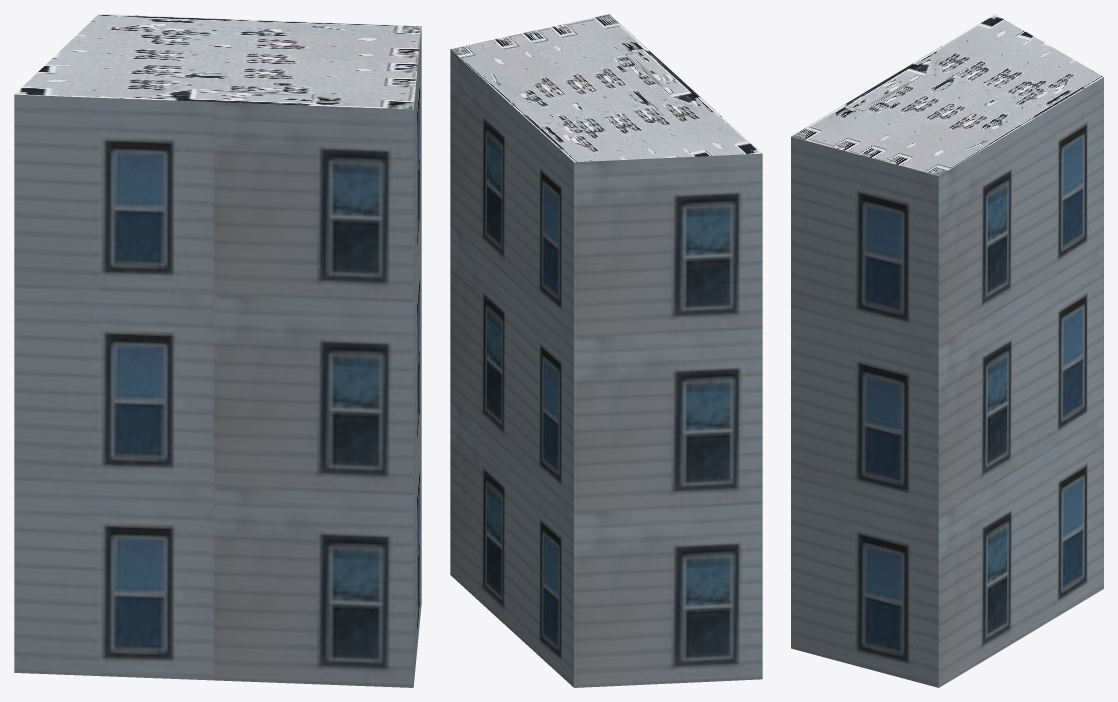
Rendered from ResTex__172.fbx.
The picture shows the model from 3 angles, left to right: view 1: azimuth 30°, elevation 25°; view 2: azimuth 150°, elevation 25°; view 3: azimuth 270°, elevation 25°; orthographic projection. The views are drawn at different scales.
Visible parts, largest first — view 1: CityEngineMaterial_18_m, CityEngineMaterial_m; view 2: CityEngineMaterial_18_m, CityEngineMaterial_m; view 3: CityEngineMaterial_18_m, CityEngineMaterial_m.
Boxes of the visible parts, left/top/right/bottom form: CityEngineMaterial_18_m: left=14, top=27, right=421, bottom=687; CityEngineMaterial_m: left=15, top=14, right=421, bottom=109; CityEngineMaterial_18_m: left=450, top=49, right=762, bottom=687; CityEngineMaterial_m: left=451, top=14, right=761, bottom=162; CityEngineMaterial_18_m: left=791, top=77, right=1103, bottom=687; CityEngineMaterial_m: left=791, top=14, right=1103, bottom=175.
Bounding box in the file's own units: 6.11 × 9 × 4.99.
Materials: 2 (2 with a texture image).
